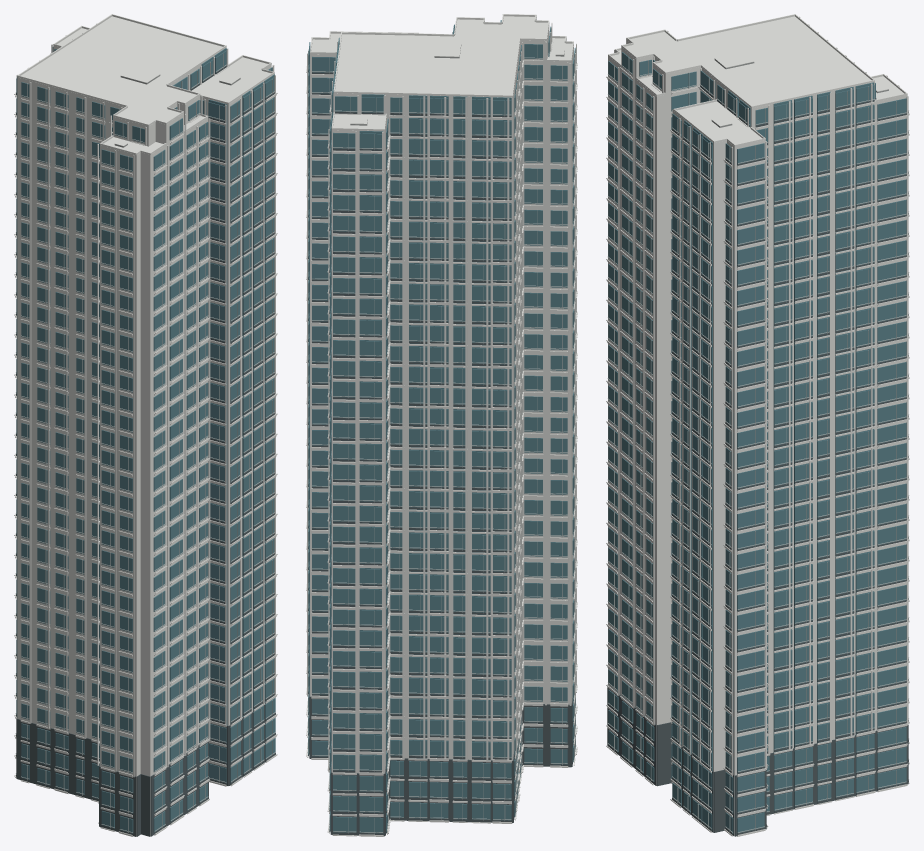
File: bespoke-acro-riverpark-103.glb
3 views of the same model, side by side, from view 1: azimuth 30°, elevation 25°; view 2: azimuth 150°, elevation 25°; view 3: azimuth 270°, elevation 25° (orthographic). The views are drawn at different scales.
Parts seen in each view (by area): view 1: 103_region-0_103_Warm_pale_planes001, 103_region-0_103_Blue_grey_glazing001, 103_region-0_103_Silver_thin_mullions001, 103_region-0_103_Charcoal_lower_storeys001; view 2: 103_region-0_103_Blue_grey_glazing001, 103_region-0_103_Warm_pale_planes001, 103_region-0_103_Silver_thin_mullions001, 103_region-0_103_Charcoal_lower_storeys001; view 3: 103_region-0_103_Blue_grey_glazing001, 103_region-0_103_Warm_pale_planes001, 103_region-0_103_Charcoal_lower_storeys001, 103_region-0_103_Silver_thin_mullions001.
Boxes of the visible parts, bbox=[...] form: 103_region-0_103_Warm_pale_planes001: bbox=[14, 14, 277, 836]; 103_region-0_103_Blue_grey_glazing001: bbox=[16, 47, 275, 833]; 103_region-0_103_Silver_thin_mullions001: bbox=[15, 53, 275, 833]; 103_region-0_103_Charcoal_lower_storeys001: bbox=[16, 66, 275, 836]; 103_region-0_103_Blue_grey_glazing001: bbox=[308, 20, 575, 833]; 103_region-0_103_Warm_pale_planes001: bbox=[306, 14, 577, 836]; 103_region-0_103_Silver_thin_mullions001: bbox=[307, 28, 576, 833]; 103_region-0_103_Charcoal_lower_storeys001: bbox=[308, 70, 573, 836]; 103_region-0_103_Blue_grey_glazing001: bbox=[608, 52, 906, 833]; 103_region-0_103_Warm_pale_planes001: bbox=[606, 14, 909, 836]; 103_region-0_103_Charcoal_lower_storeys001: bbox=[607, 85, 908, 836]; 103_region-0_103_Silver_thin_mullions001: bbox=[607, 57, 909, 832].
Bounding box in the file's own units: 41.35 × 122 × 47.11.
